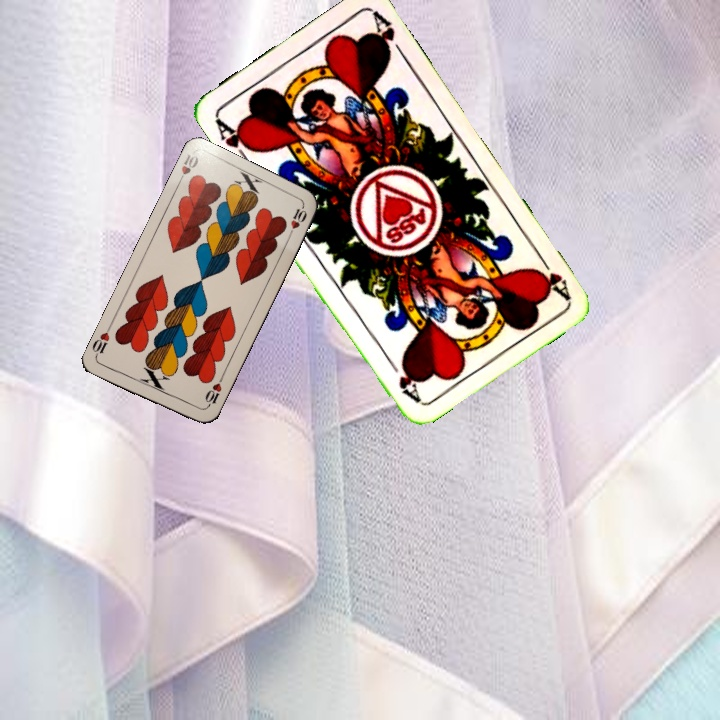H10: (173, 150, 201, 188), (201, 373, 225, 411)
HA: (211, 114, 258, 166), (529, 248, 573, 302)
